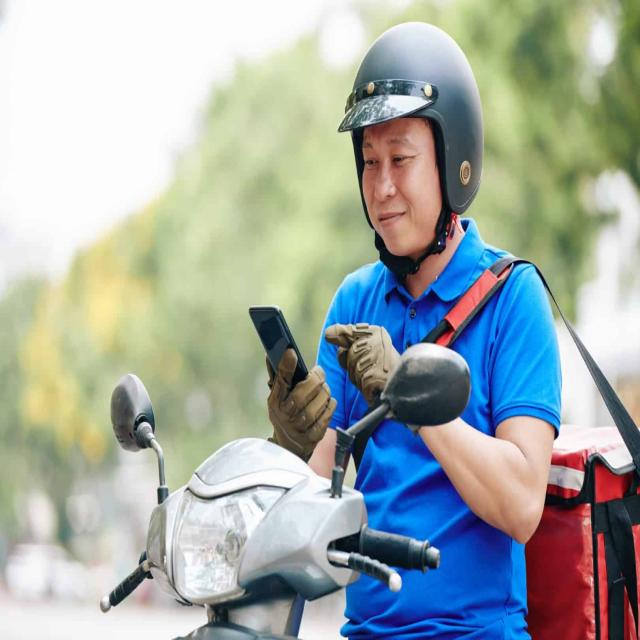helmet: (333, 12, 487, 283)
